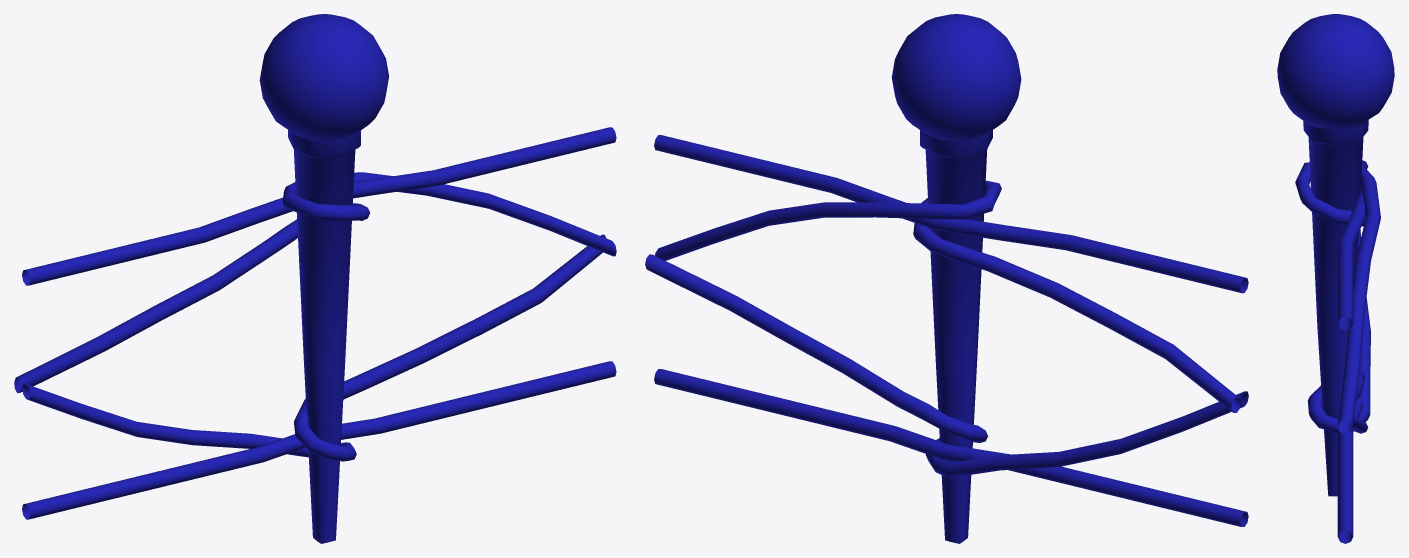
File: Barriere centre.fbx
3 views of the same model, side by side, from view 1: azimuth 30°, elevation 25°; view 2: azimuth 150°, elevation 25°; view 3: azimuth 270°, elevation 25° (orthographic). The views are drawn at different scales.
Parts seen in each view (by area): view 1: Object001; view 2: Object001; view 3: Object001.
Boxes of the visible parts, x1=… form: Object001: x1=14, y1=14, x2=616, y2=543; Object001: x1=645, y1=14, x2=1248, y2=543; Object001: x1=1277, y1=14, x2=1394, y2=543.
Size of the model in its own units: 100 by 84.69 by 18.99.
